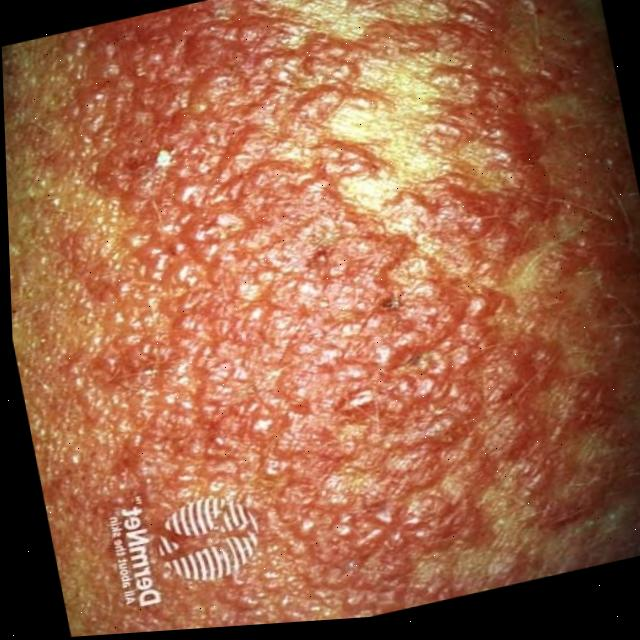Eczema: (130, 0, 637, 623)
